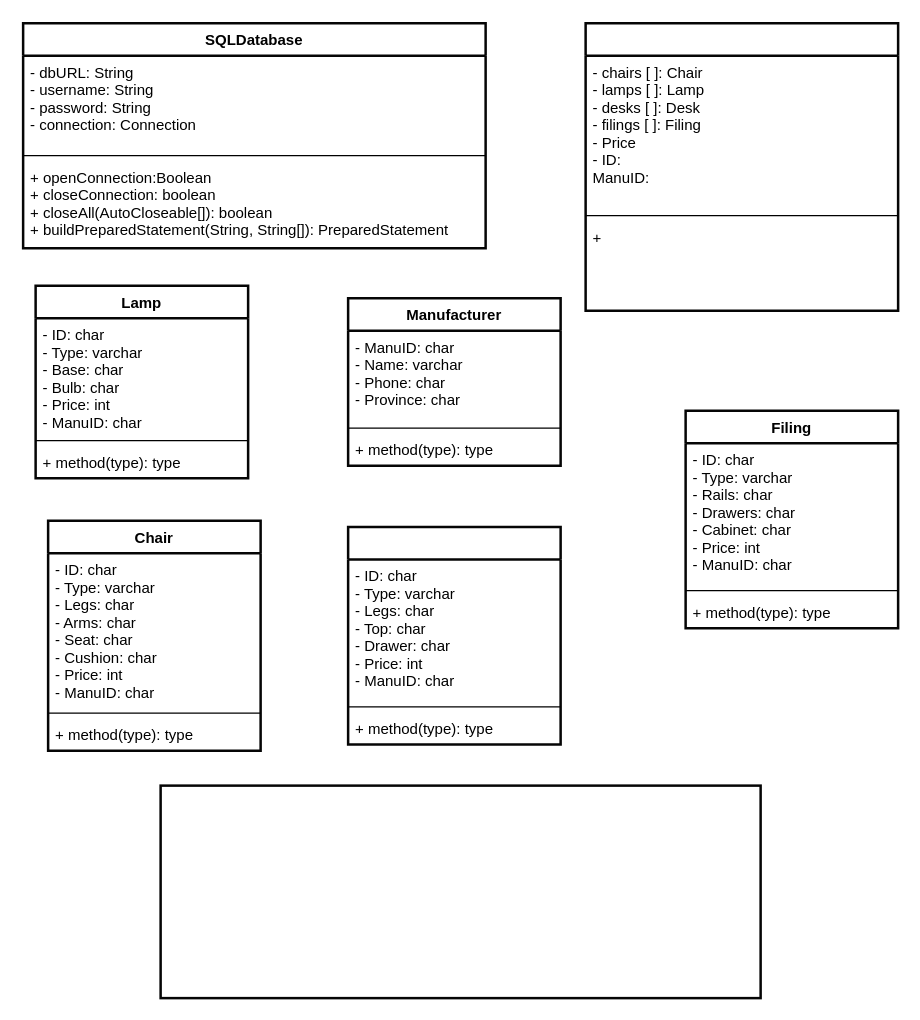
This 920x1020 diagram has some shape labels left out. Here are the shapes that lost their labels. From the top down, the box of each, then its label:
(584, 21, 899, 311): Furniture
(346, 525, 561, 745): Desk
(159, 784, 761, 999): Chair [ ]meshChairs = SELECT * FROM chair WHERE Type = 'mesh'
